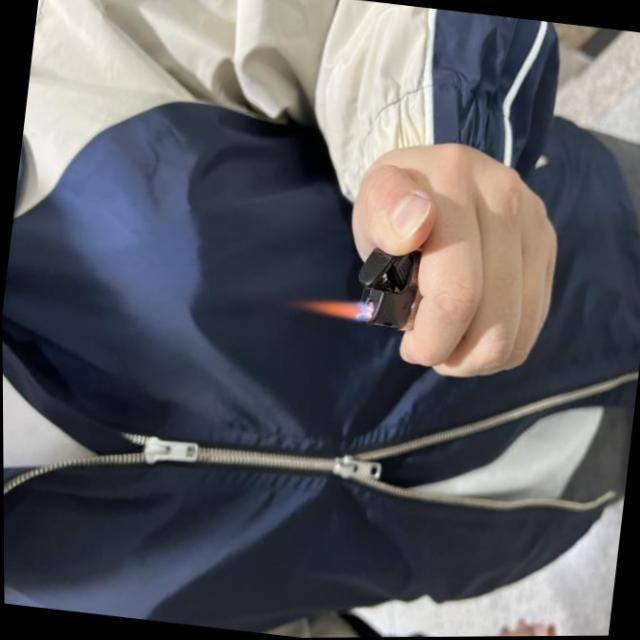Fire: (293, 289, 374, 326)
